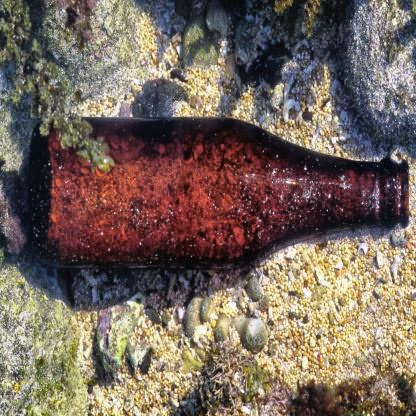gbottle: (27, 117, 414, 272)
